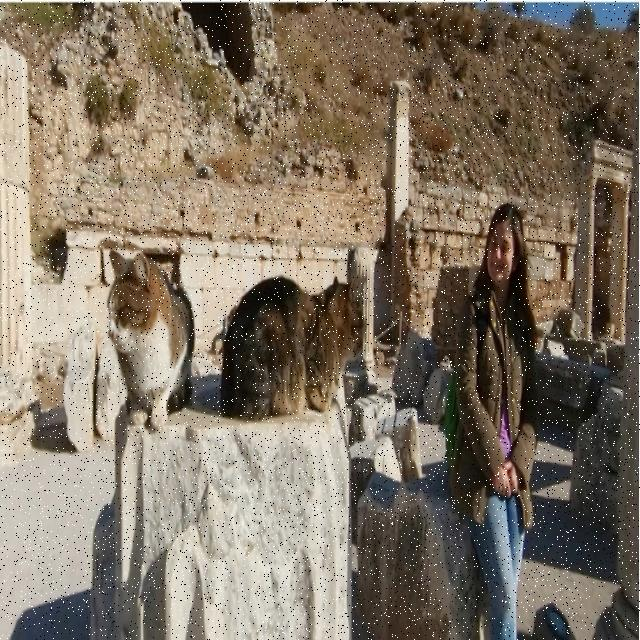cat: (220, 276, 362, 419), (108, 250, 195, 429)
